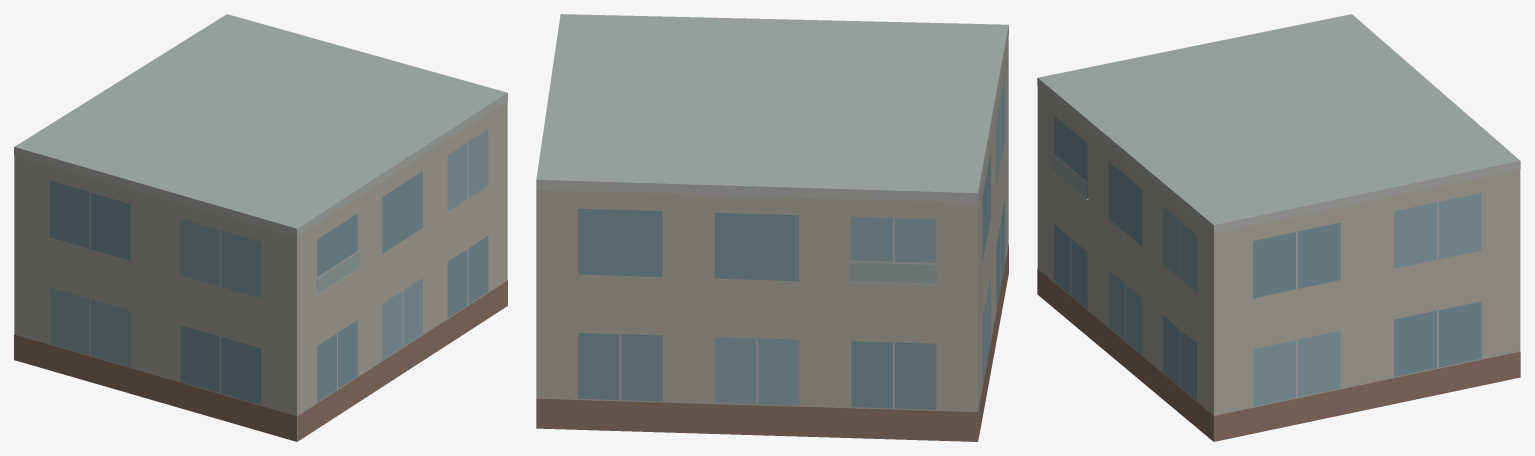
Rendered from survey-upis-32674806.glb.
3 renders of one model, left to right at view 1: azimuth 30°, elevation 25°; view 2: azimuth 150°, elevation 25°; view 3: azimuth 270°, elevation 25°, orthographic. The views are drawn at different scales.
Parts seen in each view (by area): view 1: survey-upis-32674806.tmp; view 2: survey-upis-32674806.tmp; view 3: survey-upis-32674806.tmp.
Part boxes in pixels (left/top/right/bottom): survey-upis-32674806.tmp: left=14, top=14, right=507, bottom=441; survey-upis-32674806.tmp: left=536, top=14, right=1008, bottom=441; survey-upis-32674806.tmp: left=1037, top=14, right=1520, bottom=441.
Size of the model in its own units: 12.76 by 6.1 by 12.33.
